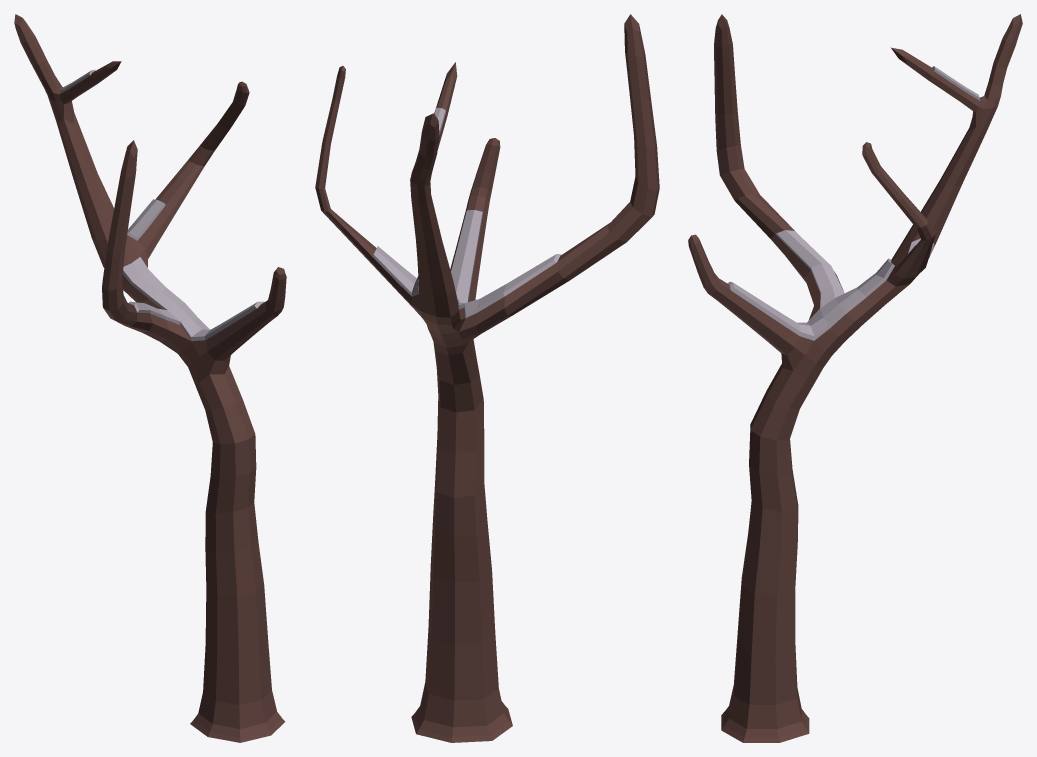
The model's file is commontree_dead_snow4.glb.
3 views of the same model, side by side, from view 1: azimuth 30°, elevation 25°; view 2: azimuth 150°, elevation 25°; view 3: azimuth 270°, elevation 25° (orthographic). The views are drawn at different scales.
Visible parts, largest first — view 1: CommonTree_Dead_Snow_4; view 2: CommonTree_Dead_Snow_4; view 3: CommonTree_Dead_Snow_4.
Part boxes in pixels (x1=…): CommonTree_Dead_Snow_4: x1=14, y1=14, x2=286, y2=742; CommonTree_Dead_Snow_4: x1=315, y1=14, x2=659, y2=742; CommonTree_Dead_Snow_4: x1=688, y1=14, x2=1022, y2=742.
Bounding box in the file's own units: 0.8161 × 2.37 × 1.08.
